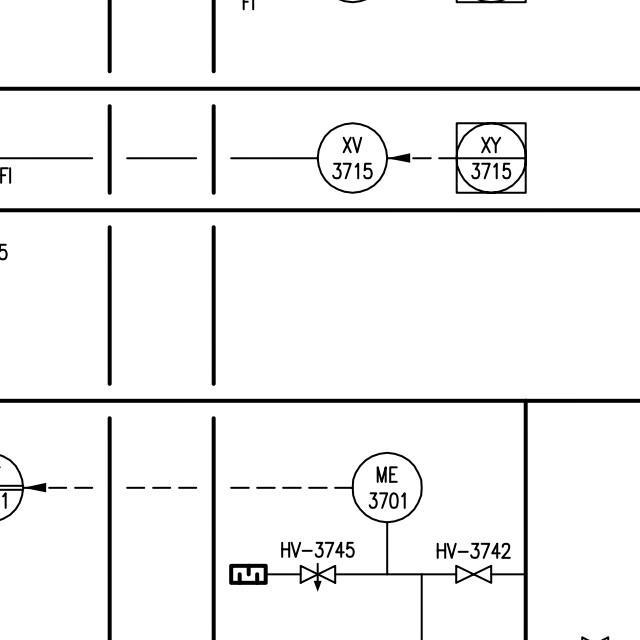GV: (296, 559, 342, 589), (447, 560, 498, 587)
